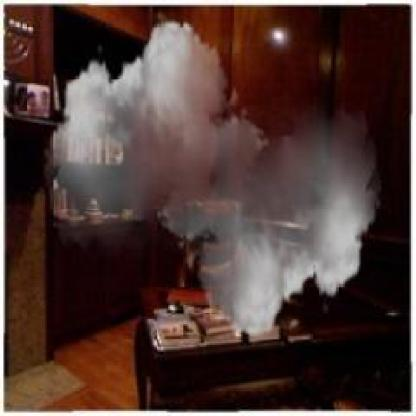Smoke: (44, 9, 381, 348)
